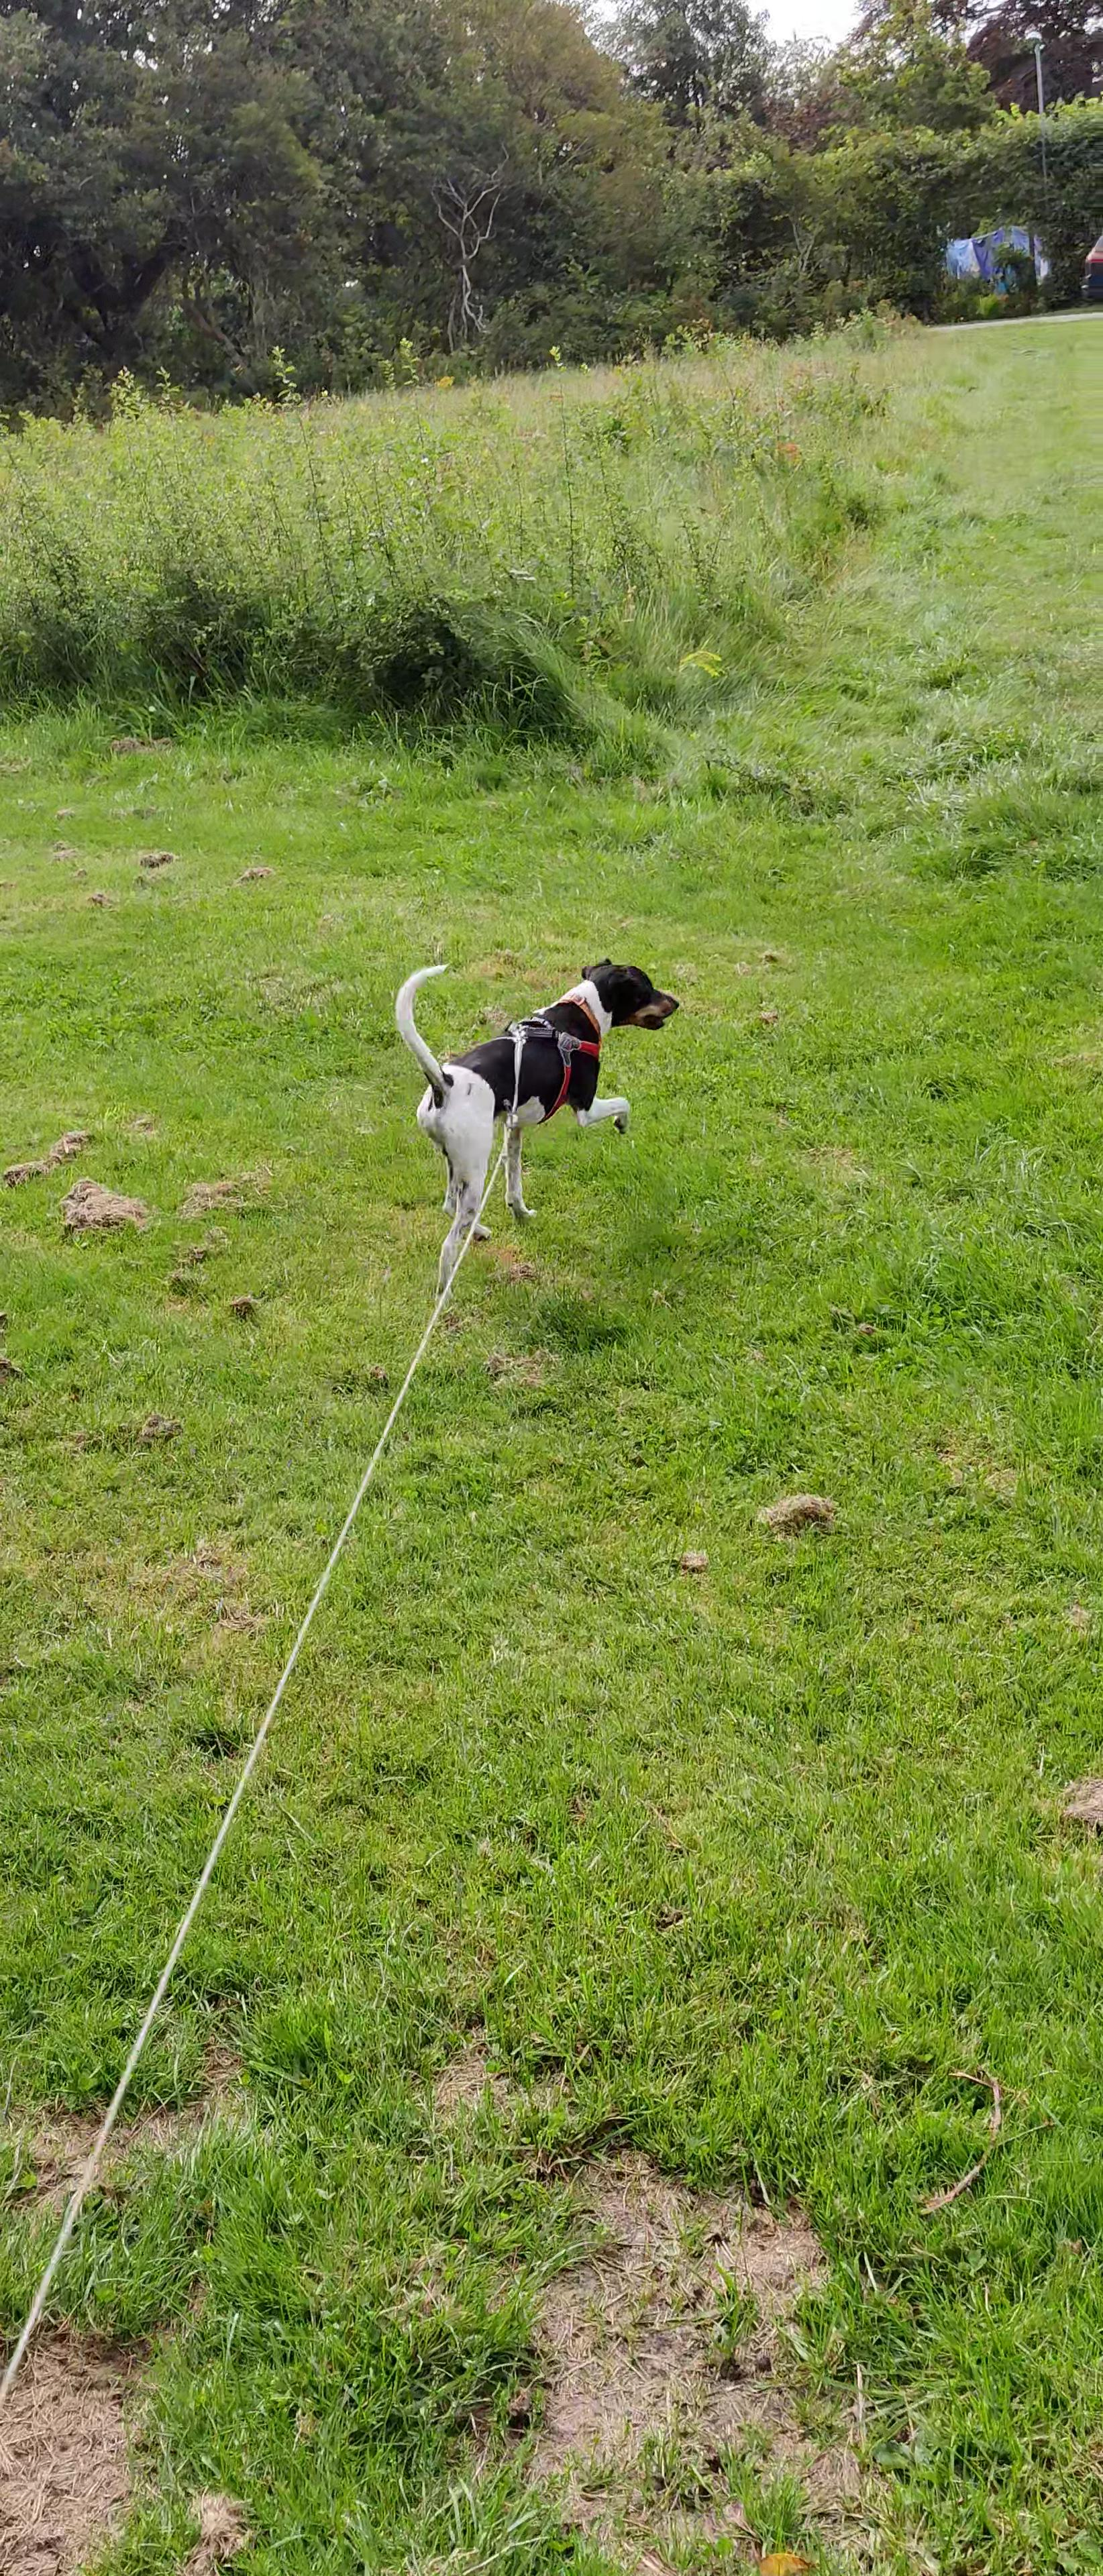Dog: (391, 954, 685, 1318)
